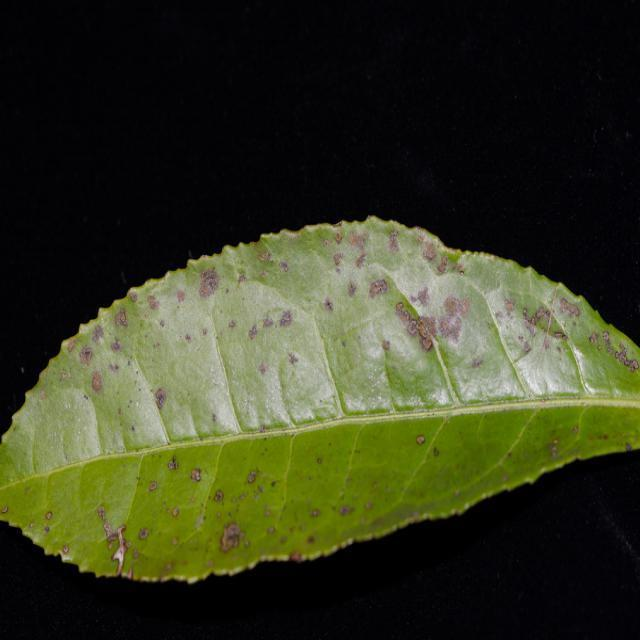Tea red rust: (17, 230, 625, 568)
